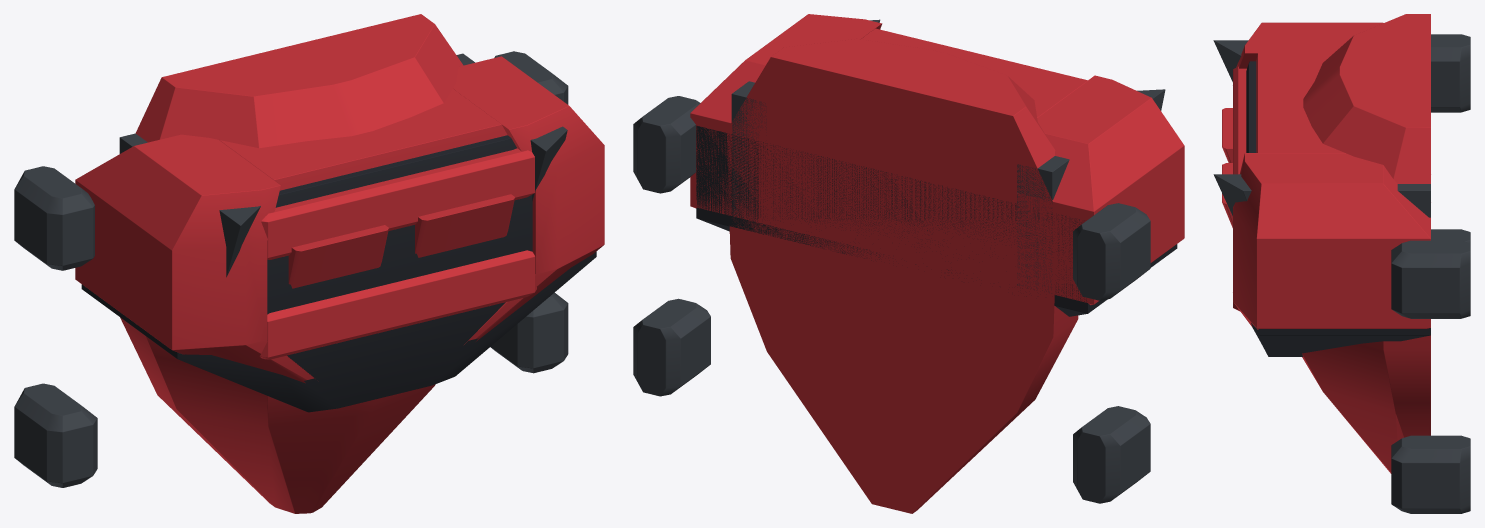
Rendered from UpperArmFront_Set05_Afterburn.fbx.
3 views of the same model, side by side, from view 1: azimuth 30°, elevation 25°; view 2: azimuth 150°, elevation 25°; view 3: azimuth 270°, elevation 25° (orthographic). The views are drawn at different scales.
Visible parts, largest first — view 1: UpperArmFront_Set05_Afterburn; view 2: UpperArmFront_Set05_Afterburn; view 3: UpperArmFront_Set05_Afterburn.
Boxes of the visible parts, x1=… form: UpperArmFront_Set05_Afterburn: x1=14, y1=14, x2=604, y2=513; UpperArmFront_Set05_Afterburn: x1=633, y1=14, x2=1184, y2=513; UpperArmFront_Set05_Afterburn: x1=1213, y1=14, x2=1470, y2=513.
Size of the model in its own units: 0.41 by 0.34 by 0.1948.
